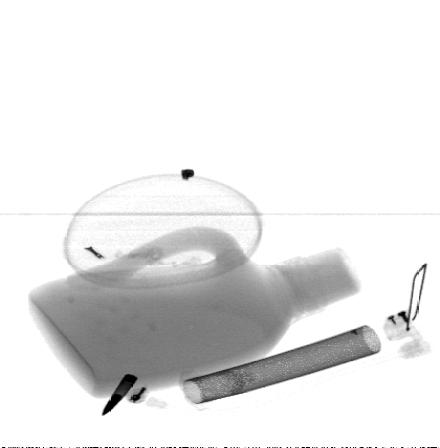Bullet: (100, 372, 141, 417)
